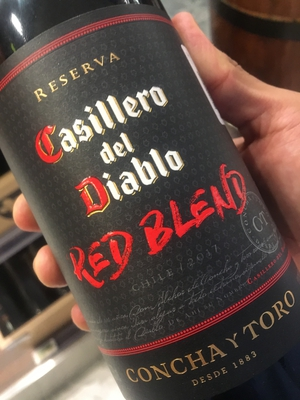casillero del diablo red blend: (3, 22, 300, 386)
